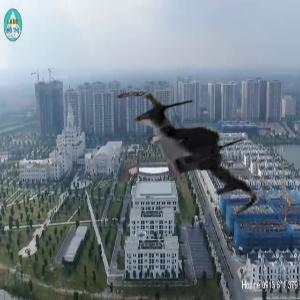drone: (113, 67, 277, 231)
